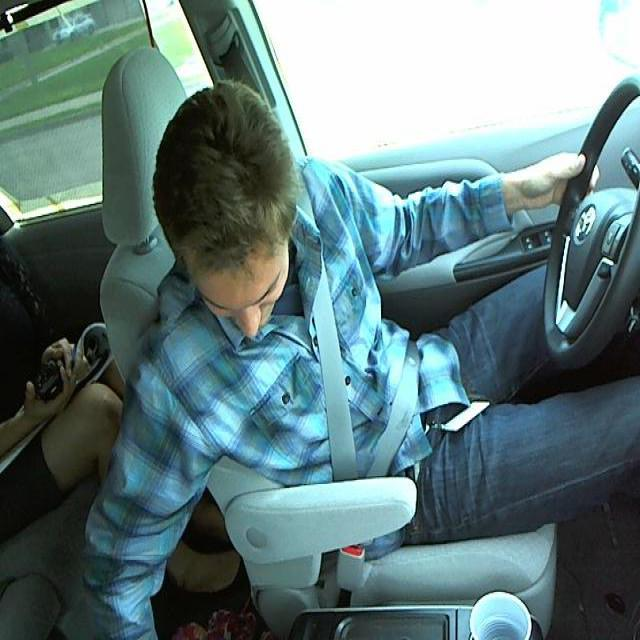seatbelt: (286, 235, 437, 481)
